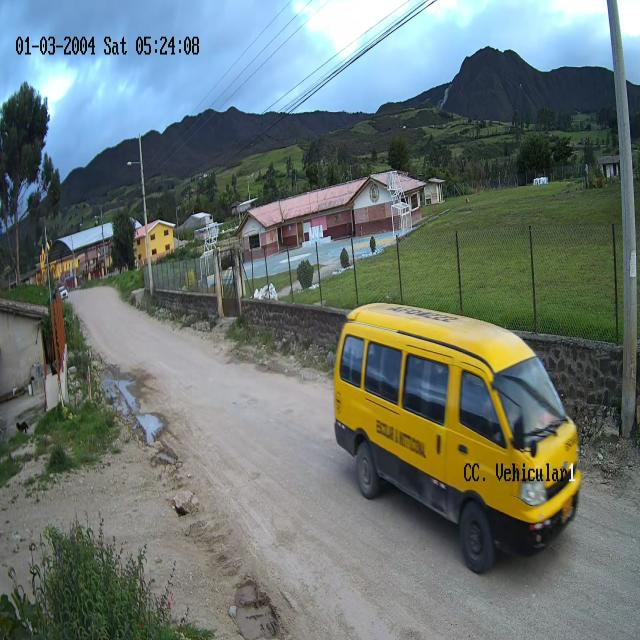BUS: (332, 306, 584, 576)
